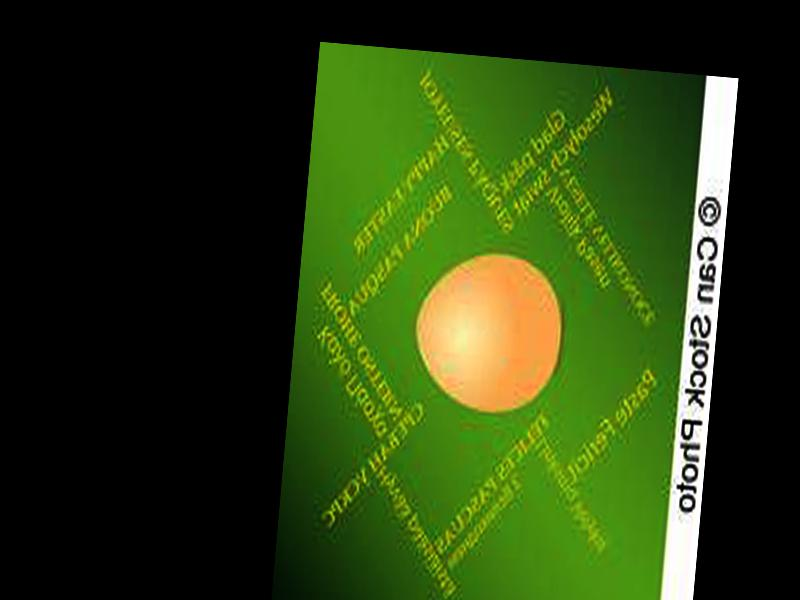Eggs: (410, 247, 567, 415)
